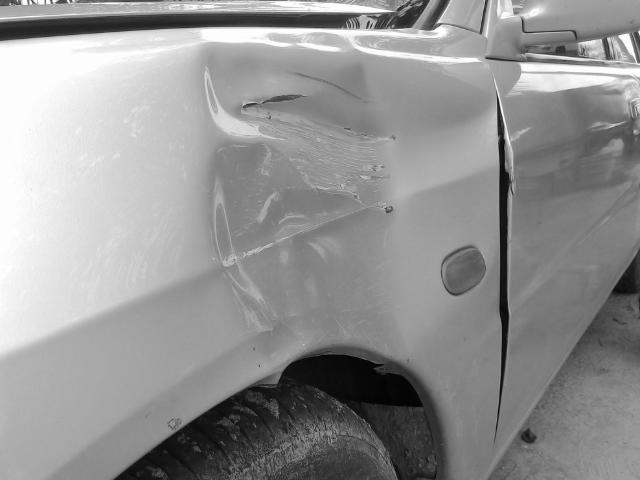Fender: (113, 28, 478, 375)
